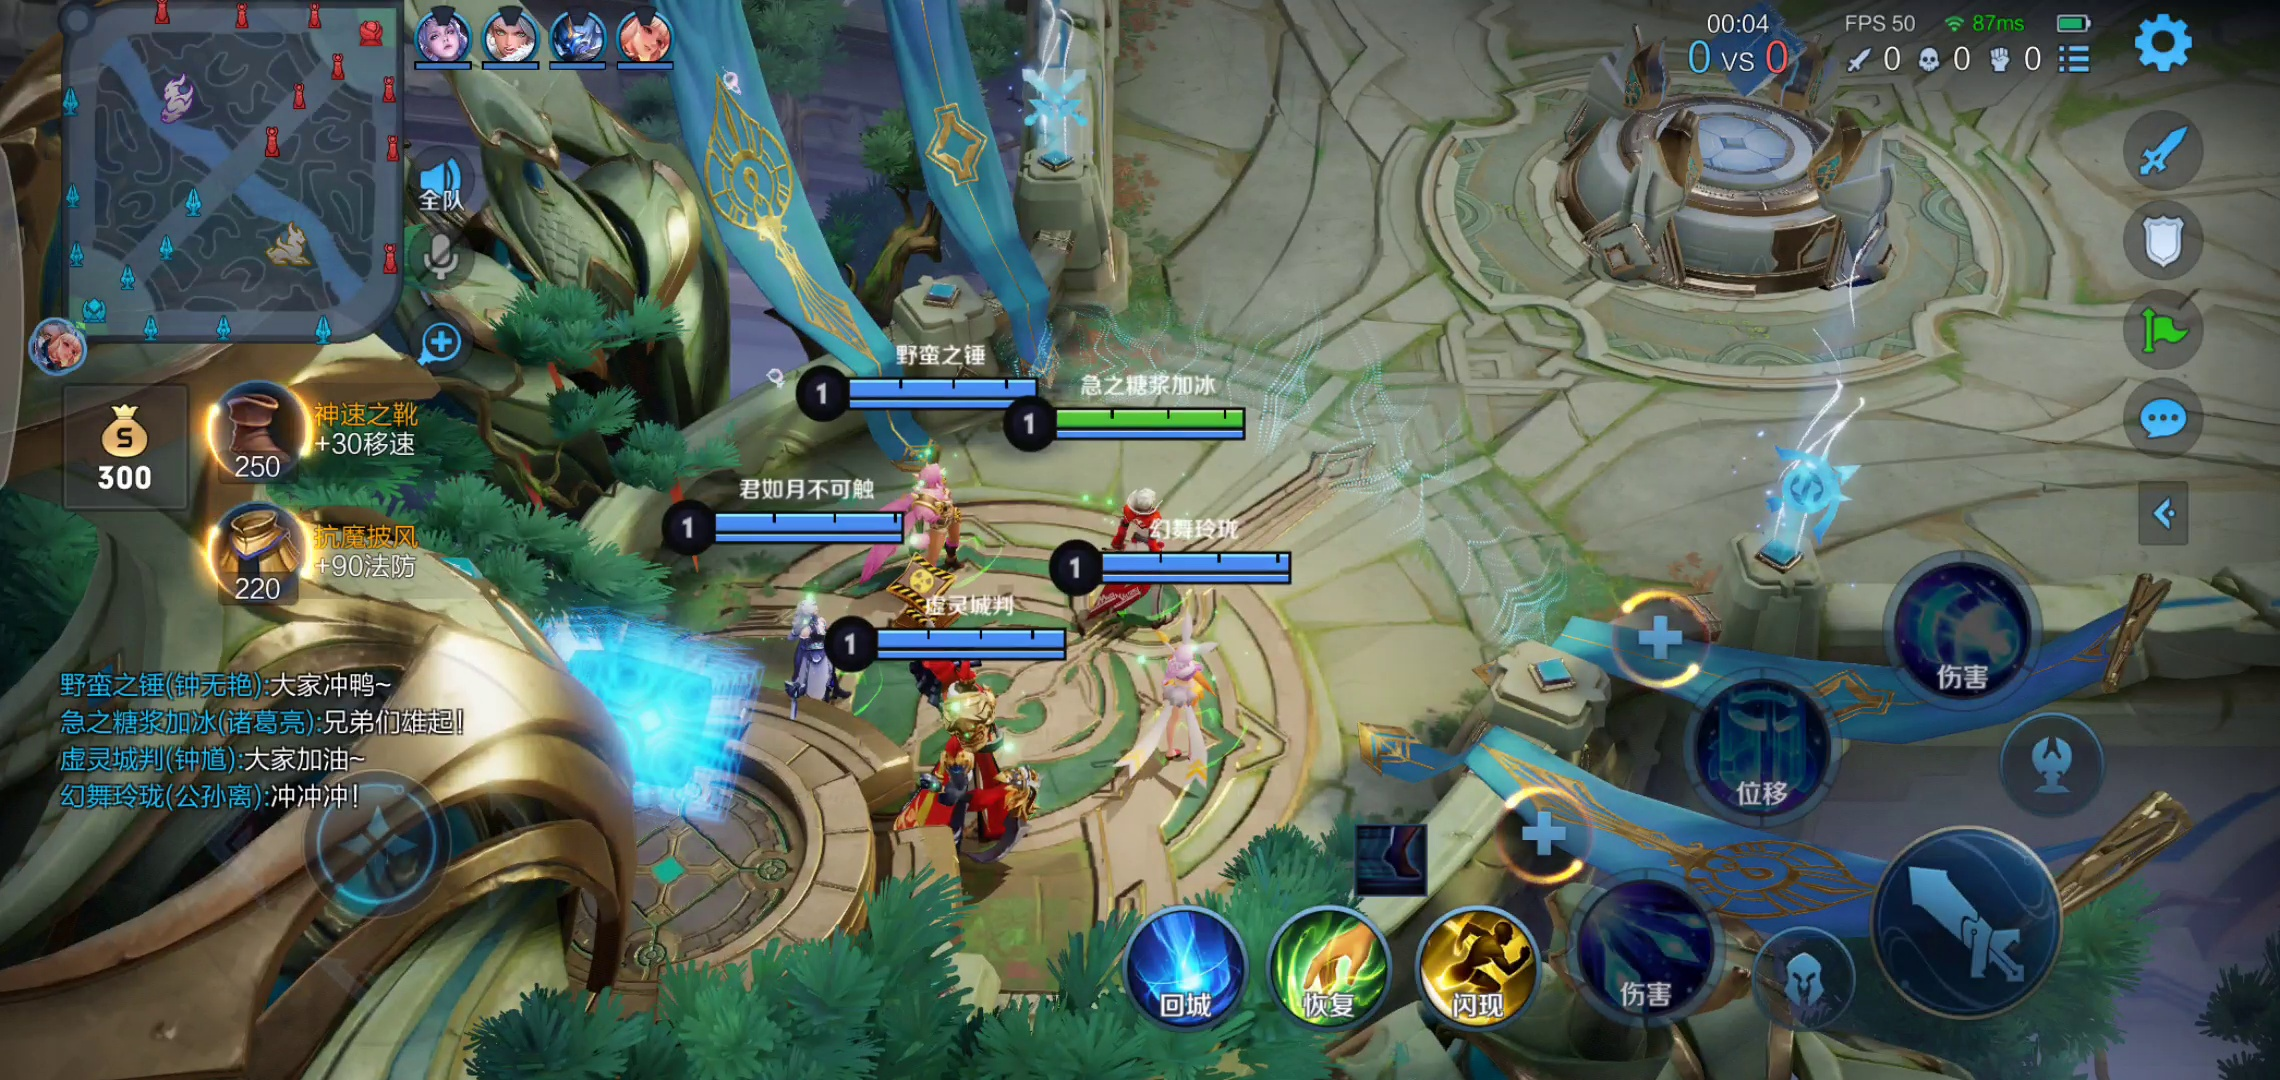crystal: (1530, 1, 1946, 313)
hero: (896, 685, 1059, 852), (1054, 481, 1232, 624), (1115, 642, 1268, 791), (870, 459, 1003, 587), (743, 590, 870, 717)
